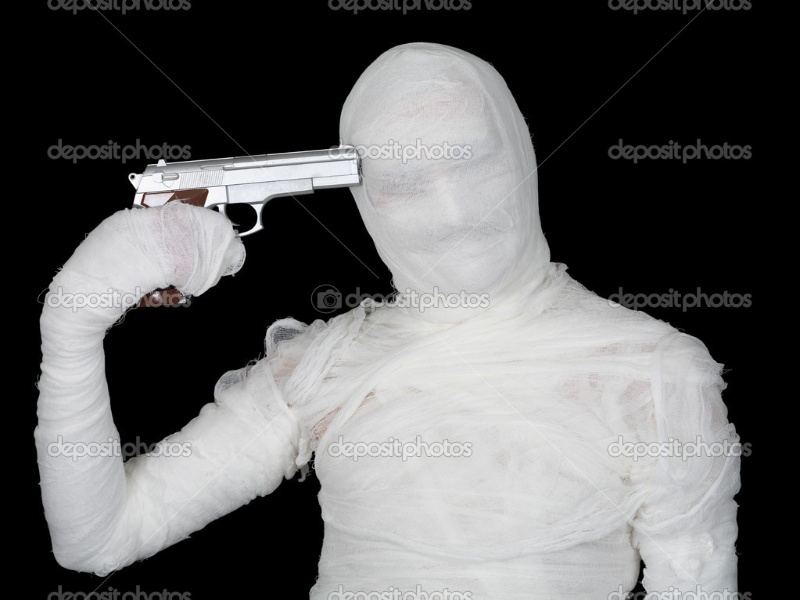gun: (121, 138, 377, 328)
